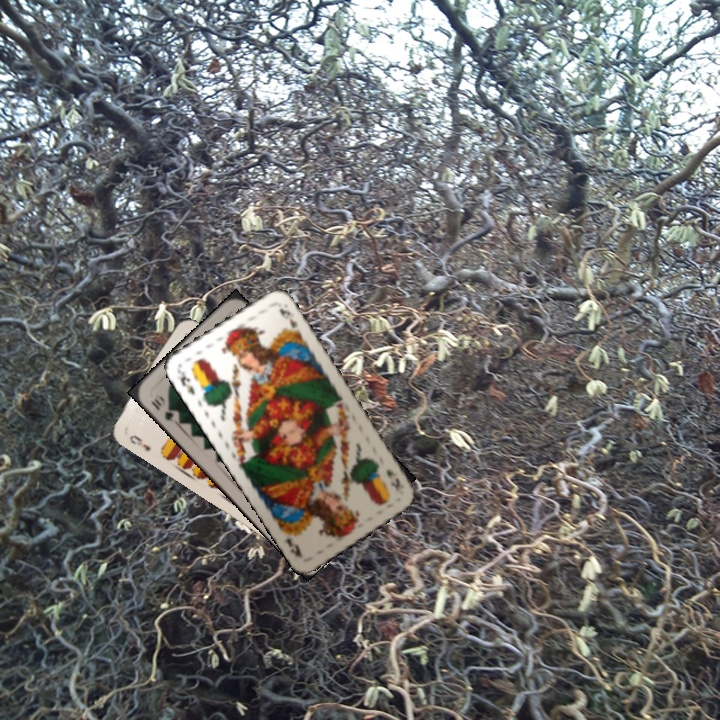E9: (125, 431, 153, 454)
EK: (173, 366, 197, 397), (382, 465, 403, 495)
G10: (147, 392, 177, 425)
